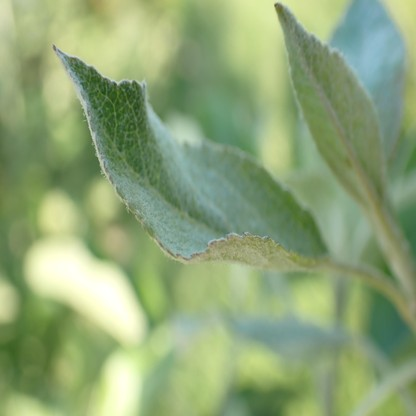powdery_mildew: (52, 45, 332, 268), (277, 2, 388, 217)
